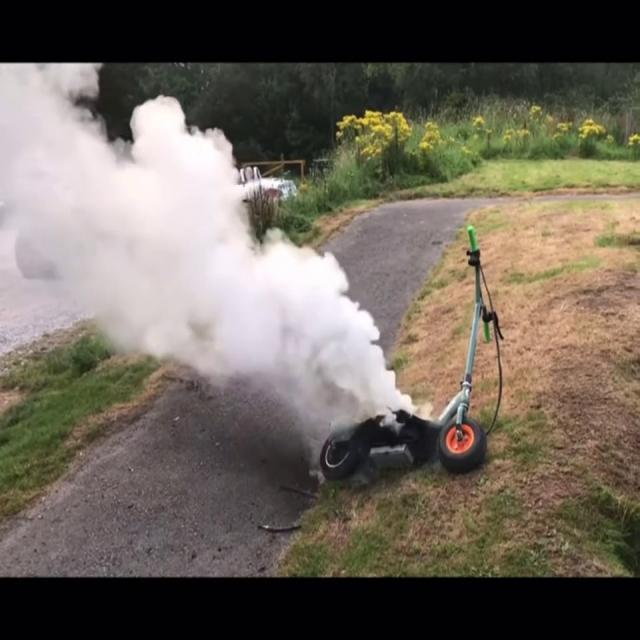Smoke: (0, 69, 407, 421)
